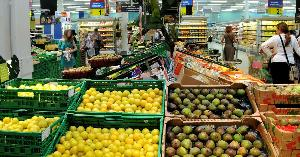figs: (167, 119, 267, 157), (167, 84, 256, 118)
plum: (54, 117, 162, 157), (73, 84, 162, 115), (0, 78, 80, 96), (1, 114, 60, 130)
